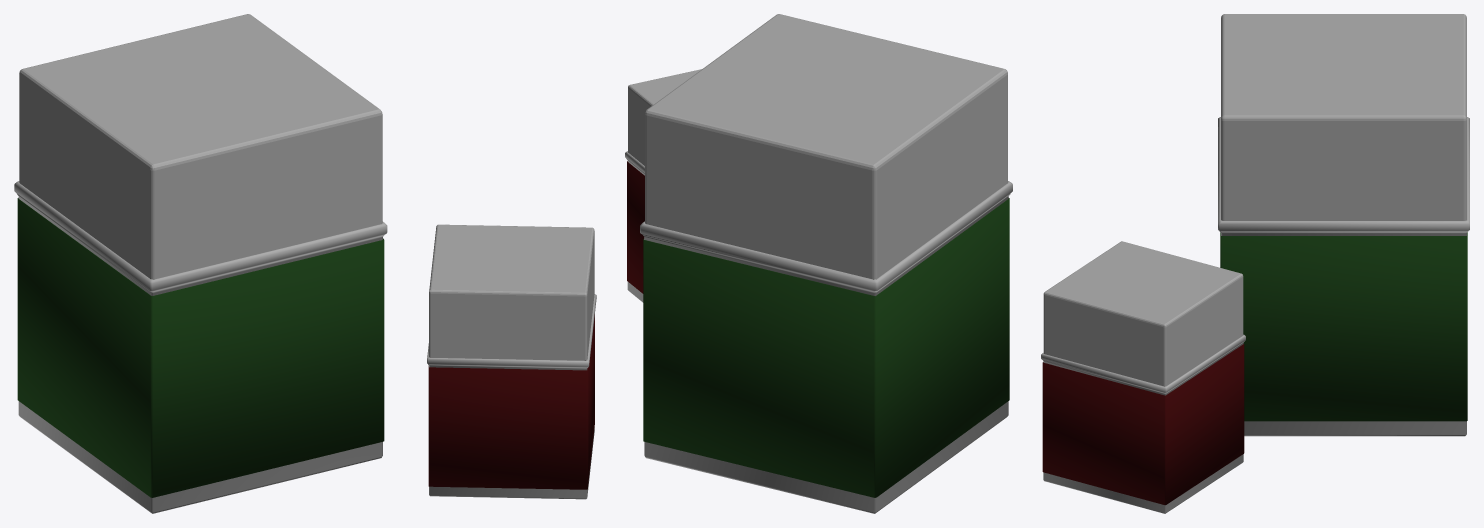
File: kusuri_box.fbx
3 renders of one model, left to right at view 1: azimuth 30°, elevation 25°; view 2: azimuth 150°, elevation 25°; view 3: azimuth 270°, elevation 25°, orthographic. The views are drawn at different scales.
Visible parts, largest first — view 1: Cube.053; view 2: Cube.053; view 3: Cube.053.
Part boxes in pixels (bbox=[...]): Cube.053: bbox=[14, 14, 596, 513]; Cube.053: bbox=[625, 14, 1012, 513]; Cube.053: bbox=[1041, 14, 1469, 513].
Bounding box in the file's own units: 6.03 × 4.81 × 5.84.
